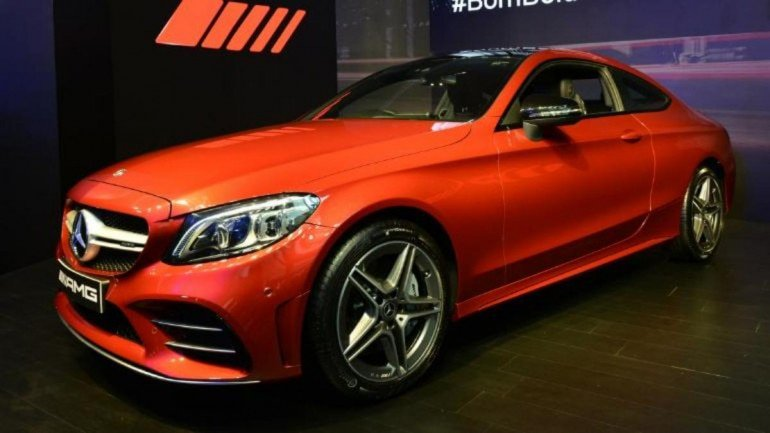car: (43, 43, 741, 404)
